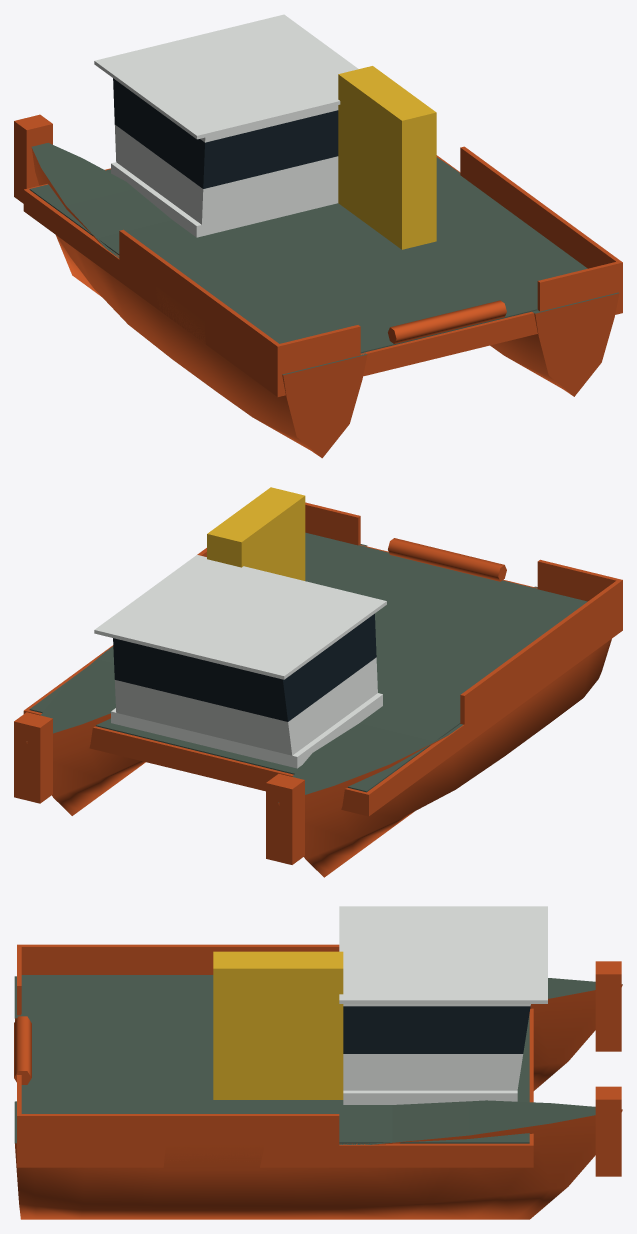
The model's file is workboat_LOD2.glb.
3 views of the same model, one above another, from view 1: azimuth 30°, elevation 25°; view 2: azimuth 150°, elevation 25°; view 3: azimuth 270°, elevation 25° (orthographic).
Visible parts, largest first — view 1: Hull, Deck, Superstructure, Crane, Windows; view 2: Hull, Deck, Superstructure, Windows, Crane; view 3: Hull, Deck, Superstructure, Crane, Windows.
Boxes of the visible parts, <box> form: Hull: <box>14,114,622,458</box>; Deck: <box>29,142,618,375</box>; Superstructure: <box>94,14,358,237</box>; Crane: <box>338,66,436,249</box>; Windows: <box>113,78,338,188</box>; Hull: <box>14,502,622,877</box>; Deck: <box>29,532,587,802</box>; Superstructure: <box>94,555,386,768</box>; Windows: <box>113,613,376,721</box>; Crane: <box>207,487,305,580</box>; Hull: <box>14,944,622,1219</box>; Deck: <box>14,975,622,1144</box>; Superstructure: <box>339,906,547,1104</box>; Crane: <box>213,951,343,1099</box>; Windows: <box>343,1006,530,1053</box>.
Bounding box in the file's own units: 10 × 6.25 × 15.02.
